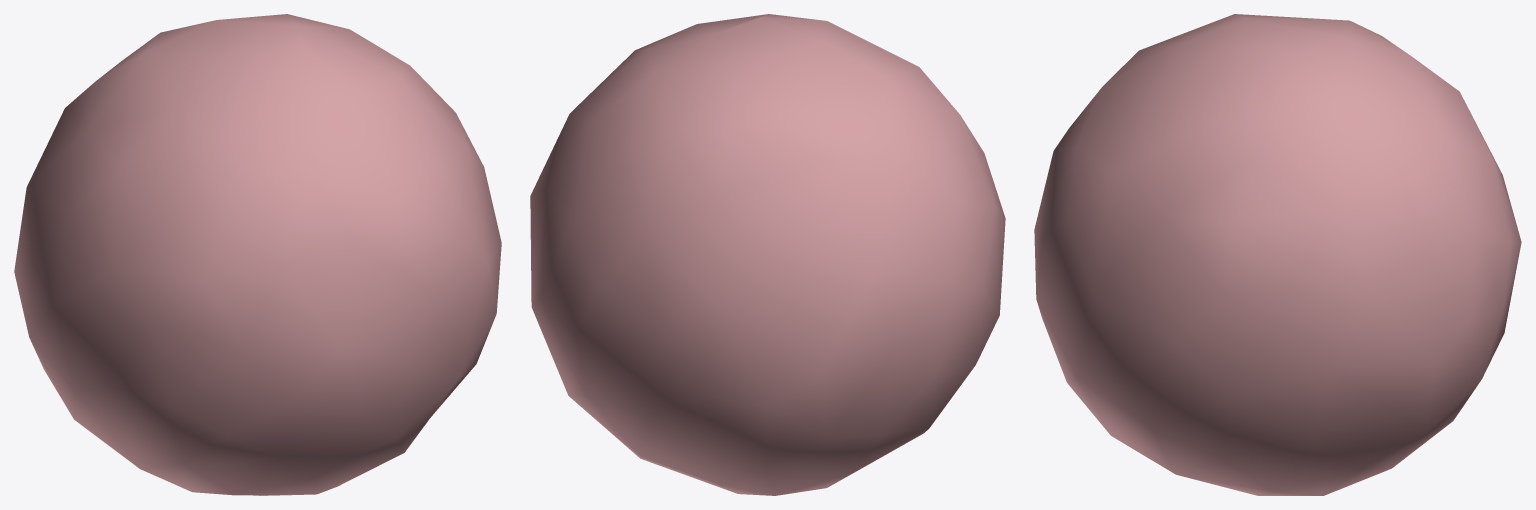
Rendered from fma264779_mm976.glb.
3 renders of one model, left to right at view 1: azimuth 30°, elevation 25°; view 2: azimuth 150°, elevation 25°; view 3: azimuth 270°, elevation 25°, orthographic.
Parts seen in each view (by area): view 1: FMA264779_MM976; view 2: FMA264779_MM976; view 3: FMA264779_MM976.
Part boxes in pixels (left/top/right/bottom): FMA264779_MM976: left=14, top=14, right=501, bottom=495; FMA264779_MM976: left=530, top=14, right=1005, bottom=495; FMA264779_MM976: left=1034, top=14, right=1521, bottom=495.
Size of the model in its own units: 0.00362 by 0.00362 by 0.00365.
